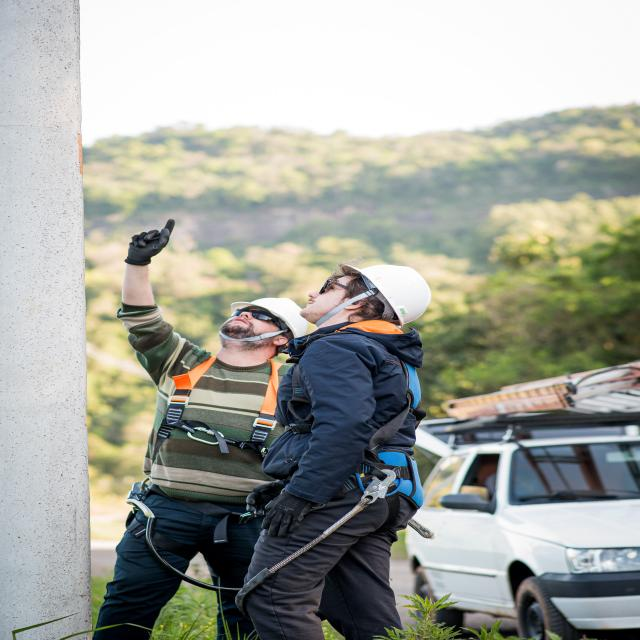capacete: (335, 259, 436, 330), (227, 294, 312, 348)
corda de vida: (128, 351, 297, 545)
luva: (254, 489, 318, 541), (122, 217, 177, 270)
